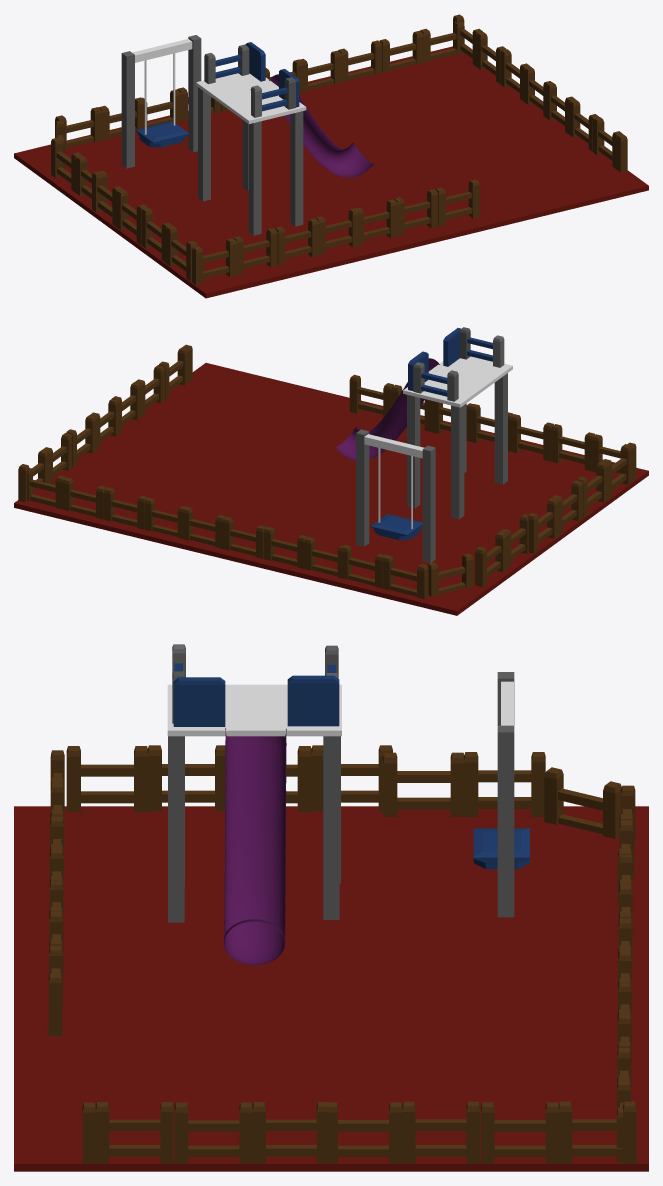
Rendered from Placzabaw.fbx.
3 views of the same model, one above another, from view 1: azimuth 30°, elevation 25°; view 2: azimuth 150°, elevation 25°; view 3: azimuth 270°, elevation 25° (orthographic). The views are drawn at different scales.
Visible parts, largest first — view 1: Podłoga, Cube, zjeżdżalnia, Bela pionowa 2, Bela pionowa 1.004, Bela pionowa 1.003, Bela pionowa 1.002, Bela pionowa 1, Siedzenie, Bela pozioma, bela 2.036, Bela pionowa 1.001 (+2 smaller); view 2: Podłoga, Cube, zjeżdżalnia, Bela pionowa 2, Bela pionowa 1.002, Bela pionowa 1, Bela pionowa 1.003, Bela pionowa 1.001, Siedzenie, Bela pozioma, bela 2.034, bela 2.029 (+1 smaller); view 3: Podłoga, zjeżdżalnia, Cube, Bela pionowa 1, Bela pionowa 1.004, Bela pionowa 1.001, bela 2.036, bela 2.034, Siedzenie, bela 1.002, bela 2, bela 2.002 (+23 smaller).
Part boxes in pixels (x1=…): Podłoga: x1=14, y1=46, x2=648, y2=298; Cube: x1=196, y1=73, x2=306, y2=123; zjeżdżalnia: x1=269, y1=74, x2=373, y2=177; Bela pionowa 2: x1=121, y1=51, x2=134, y2=168; Bela pionowa 1.004: x1=290, y1=111, x2=303, y2=226; Bela pionowa 1.003: x1=248, y1=121, x2=261, y2=235; Bela pionowa 1.002: x1=198, y1=87, x2=210, y2=201; Bela pionowa 1: x1=188, y1=35, x2=201, y2=152; Siedzenie: x1=136, y1=121, x2=189, y2=147; Bela pozioma: x1=132, y1=39, x2=192, y2=62; bela 2.036: x1=245, y1=42, x2=265, y2=81; Bela pionowa 1.001: x1=242, y1=120, x2=248, y2=190; Podłoga: x1=14, y1=363, x2=648, y2=615; Cube: x1=403, y1=356, x2=512, y2=407; zjeżdżalnia: x1=335, y1=358, x2=439, y2=460; Bela pionowa 2: x1=422, y1=445, x2=435, y2=562; Bela pionowa 1.002: x1=451, y1=405, x2=464, y2=519; Bela pionowa 1: x1=356, y1=429, x2=369, y2=546; Bela pionowa 1.003: x1=494, y1=373, x2=507, y2=484; Bela pionowa 1.001: x1=407, y1=395, x2=420, y2=508; Siedzenie: x1=370, y1=514, x2=422, y2=540; Bela pozioma: x1=364, y1=434, x2=424, y2=458; bela 2.034: x1=443, y1=328, x2=460, y2=366; bela 2.029: x1=475, y1=546, x2=486, y2=586; Podłoga: x1=14, y1=806, x2=648, y2=1171; zjeżdżalnia: x1=224, y1=728, x2=286, y2=965; Cube: x1=167, y1=684, x2=341, y2=736; Bela pionowa 1: x1=497, y1=725, x2=514, y2=917; Bela pionowa 1.004: x1=168, y1=736, x2=184, y2=922; Bela pionowa 1.001: x1=323, y1=736, x2=339, y2=919; bela 2.036: x1=287, y1=675, x2=339, y2=726; bela 2.034: x1=173, y1=677, x2=225, y2=726; Siedzenie: x1=473, y1=828, x2=529, y2=869; bela 1.002: x1=66, y1=746, x2=80, y2=812; bela 2: x1=297, y1=746, x2=311, y2=812; bela 2.002: x1=134, y1=746, x2=148, y2=812.
Bounding box in the file's own units: 2000 × 658 × 1500.
